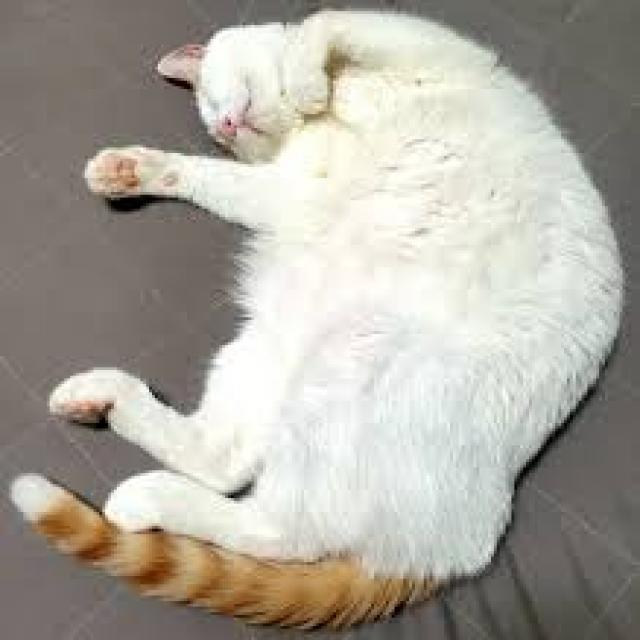cat: (6, 2, 640, 640)
